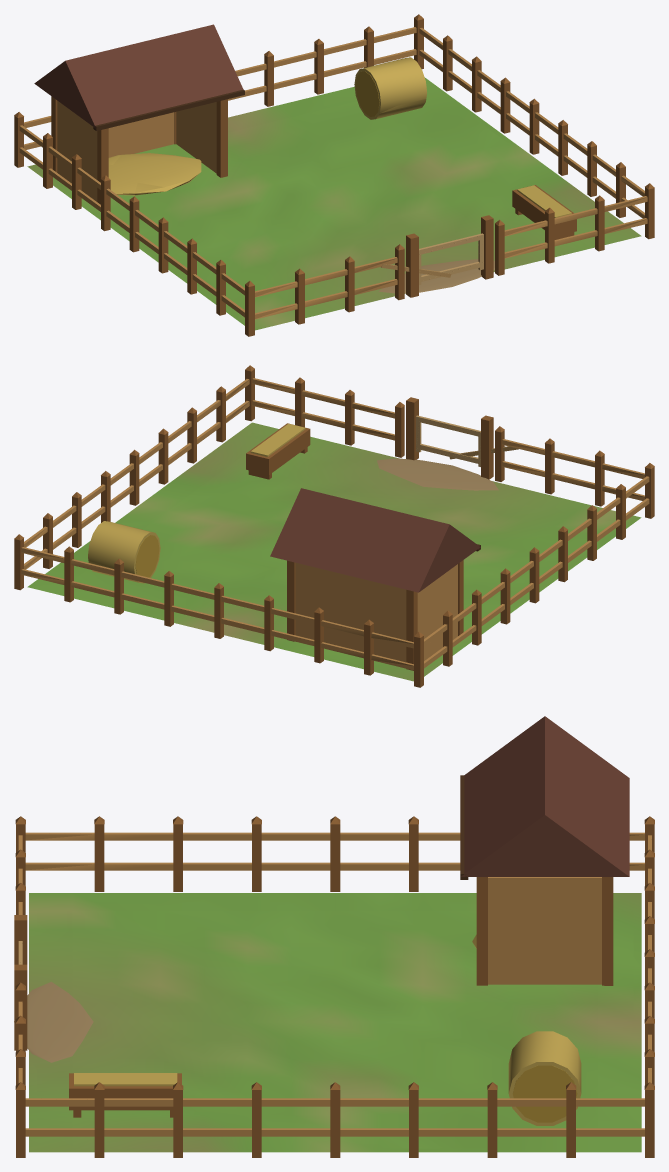
File: pasture.glb
3 renders of one model, top to bottom at view 1: azimuth 30°, elevation 25°; view 2: azimuth 150°, elevation 25°; view 3: azimuth 270°, elevation 25°, orthographic. The views are drawn at different scales.
Visible parts, largest first — view 1: home-pasture, home-pasture-far; view 2: home-pasture, home-pasture-far; view 3: home-pasture, home-pasture-far.
Boxes of the visible parts, <box> form: home-pasture: <box>14,14,654,327</box>; home-pasture-far: <box>14,14,654,336</box>; home-pasture: <box>19,365,654,675</box>; home-pasture-far: <box>14,365,654,687</box>; home-pasture: <box>14,716,654,1151</box>; home-pasture-far: <box>14,775,654,1157</box>.
Bounding box in the file's own units: 7.93 × 2.45 × 7.95.
